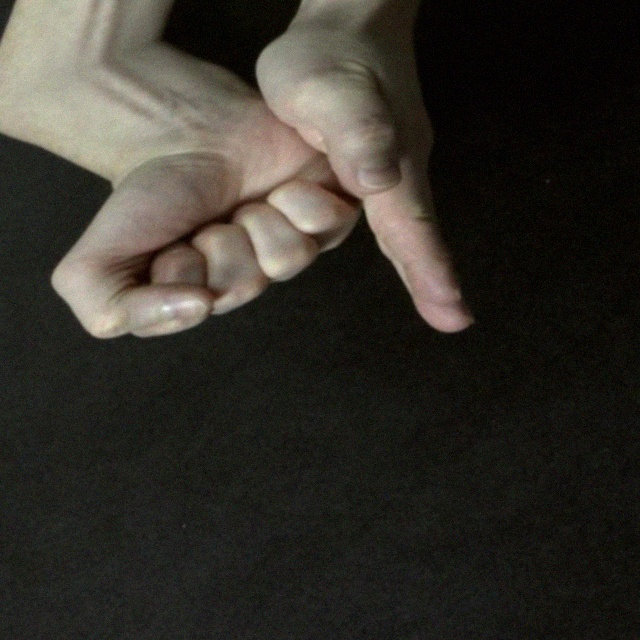Rock: (23, 91, 375, 369)
